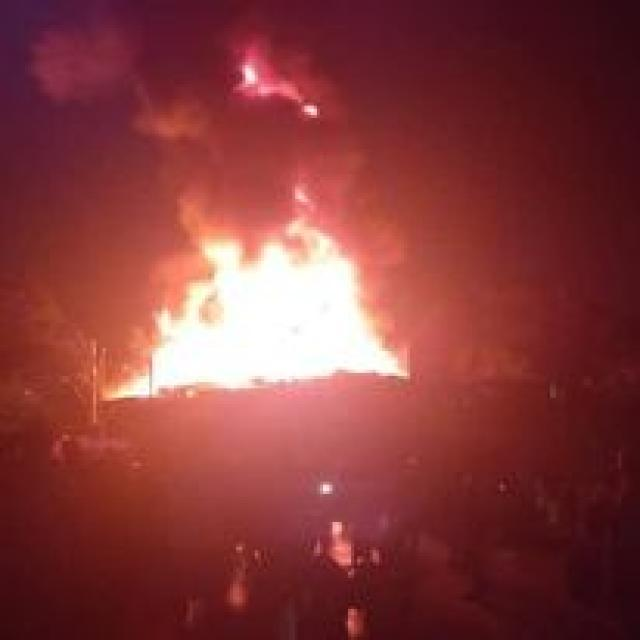Fire: (136, 233, 430, 394)
